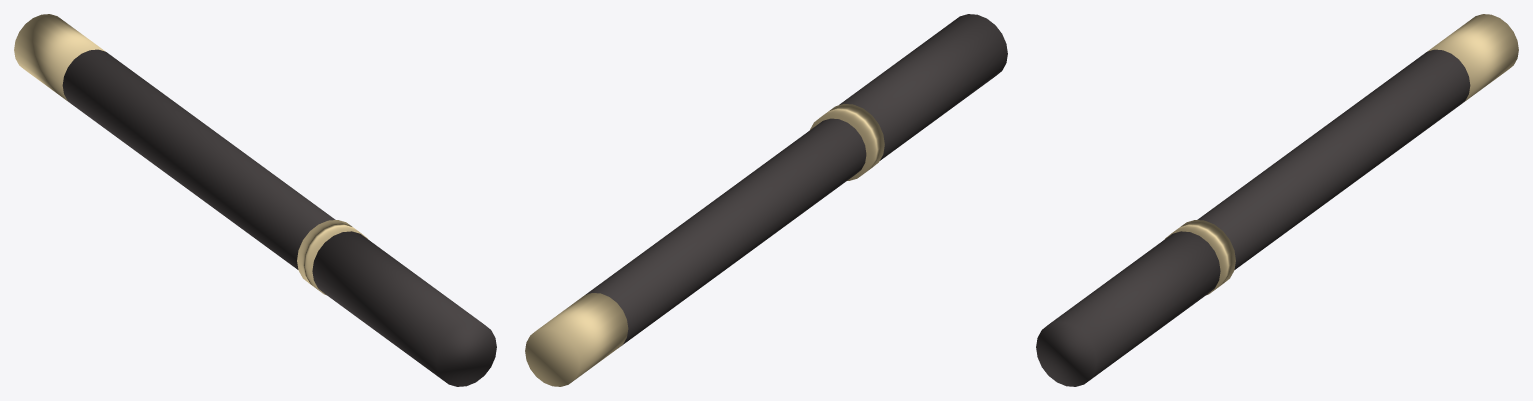
The model's file is pen.glb.
3 renders of one model, left to right at view 1: azimuth 30°, elevation 25°; view 2: azimuth 150°, elevation 25°; view 3: azimuth 330°, elevation 25°, orthographic.
Parts seen in each view (by area): view 1: pen; view 2: pen; view 3: pen.
Part boxes in pixels (x1=…): pen: x1=14, y1=14, x2=496, y2=386; pen: x1=525, y1=14, x2=1007, y2=386; pen: x1=1036, y1=14, x2=1518, y2=386.
Bounding box in the file's own units: 0.0148 × 0.0148 × 0.175.
